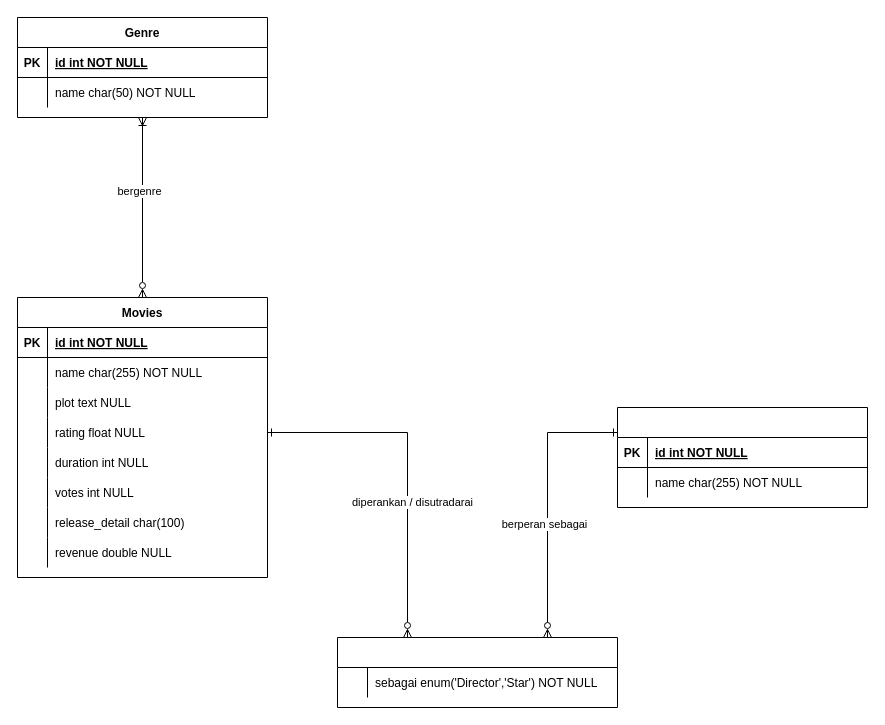
Image size: 885x725. Some labels were removed from this diagram. Here are the shapes that lost their labels. From the top down, the box of each, then its label:
(616, 406, 868, 508): Stars
(336, 636, 618, 708): Roles
